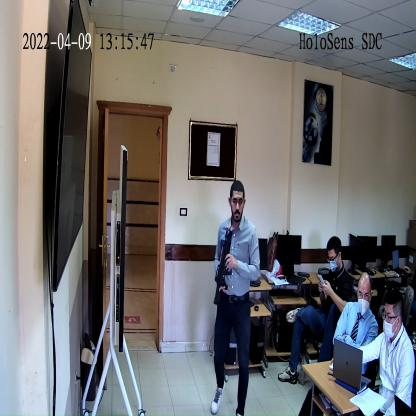handgun: (213, 231, 235, 305)
